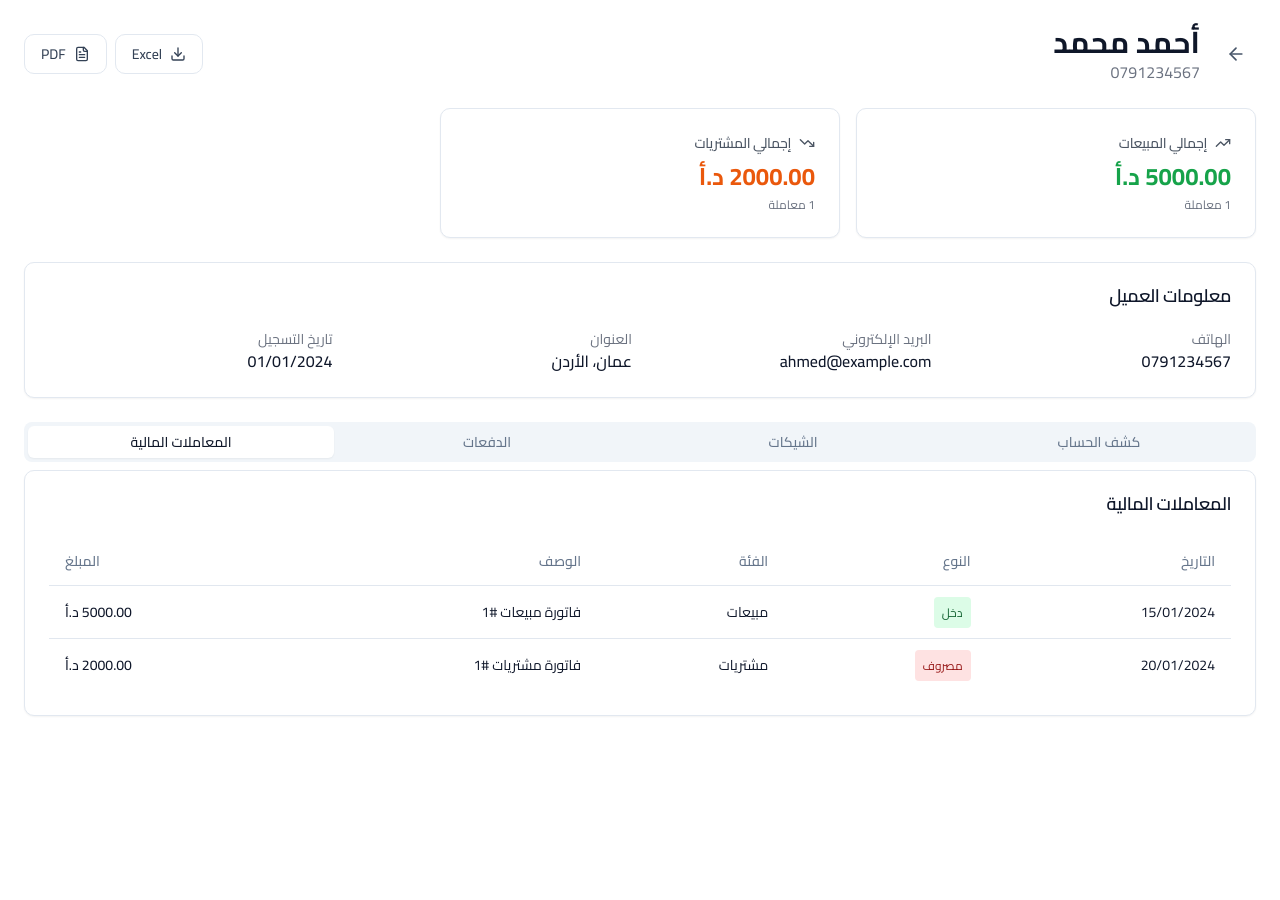
Scenario: ClientDetailPage › Cheques Tab › should display cheques when tab is clicked
Click the tab "الشيكات" at (793, 442), box [640, 426, 946, 458]
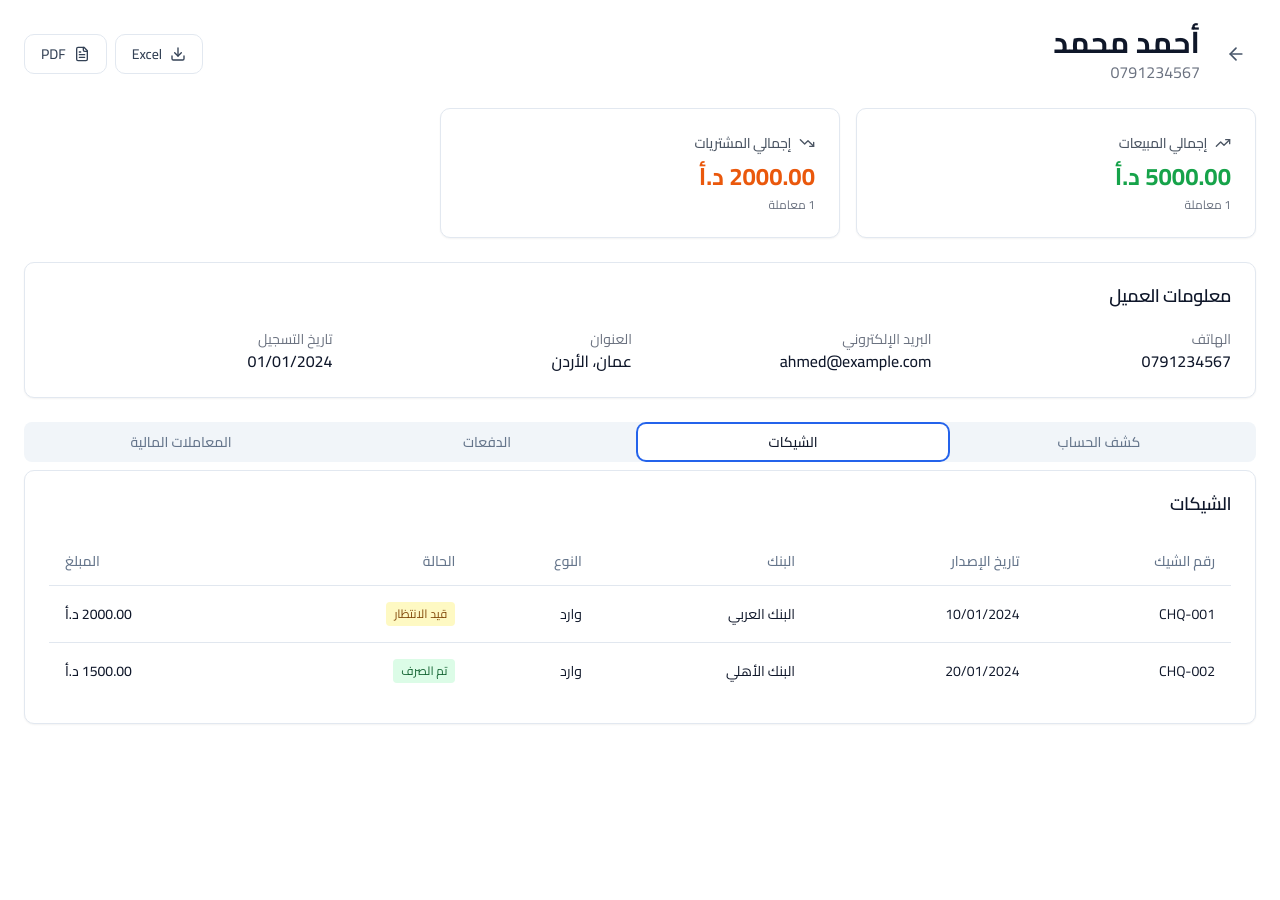
expect the text "CHQ-001" is shown: met, box [1036, 585, 1231, 642]
expect the text "CHQ-002" is shown: met, box [1036, 642, 1231, 698]
